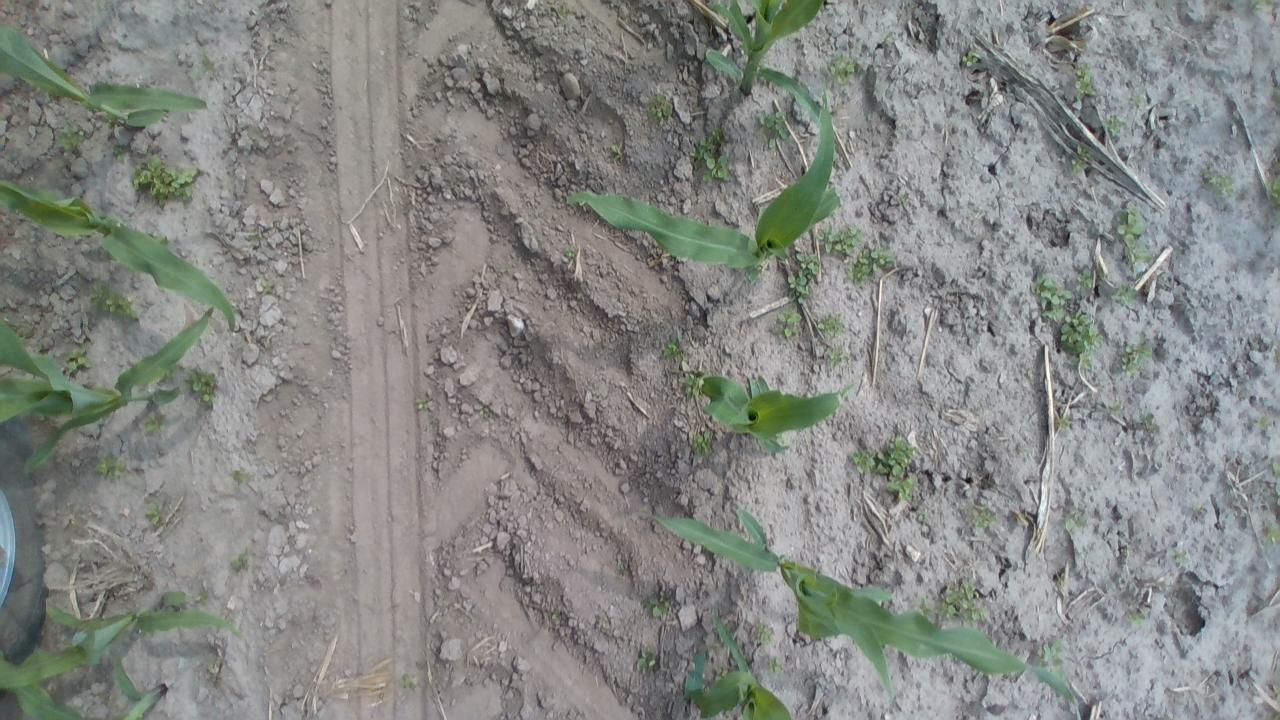Maize: (642, 499, 1089, 714), (560, 72, 845, 290), (0, 298, 216, 476), (0, 175, 246, 330), (0, 593, 247, 715), (0, 24, 215, 136), (698, 0, 842, 152), (689, 366, 864, 452), (678, 612, 800, 720)
Weeds: (848, 436, 922, 507), (130, 156, 202, 206), (917, 580, 990, 626), (1114, 202, 1152, 274), (689, 127, 732, 186), (84, 284, 146, 324), (843, 244, 895, 284), (787, 244, 824, 300), (1058, 309, 1098, 360), (1032, 271, 1070, 320), (816, 222, 866, 259), (756, 107, 792, 152), (184, 364, 221, 407), (1116, 337, 1156, 376), (1200, 166, 1238, 202), (828, 52, 862, 88), (1034, 640, 1069, 674), (49, 124, 86, 155), (772, 308, 804, 343), (962, 501, 996, 532), (646, 91, 676, 125), (816, 309, 850, 339), (62, 342, 94, 372), (643, 591, 676, 620), (681, 368, 709, 400), (1070, 142, 1096, 176), (94, 454, 128, 480), (1110, 277, 1140, 306), (1058, 505, 1088, 534), (1072, 65, 1098, 98), (634, 644, 661, 674), (662, 336, 691, 362), (690, 430, 716, 458), (144, 502, 170, 530), (752, 622, 778, 650), (825, 344, 852, 368), (196, 56, 222, 80), (396, 668, 422, 692), (228, 466, 254, 490), (1072, 266, 1096, 292), (228, 550, 254, 574), (762, 654, 786, 677), (140, 413, 166, 434), (244, 224, 266, 248), (1136, 411, 1158, 434), (607, 140, 627, 165), (960, 48, 985, 68), (1104, 114, 1126, 136), (1052, 412, 1074, 434), (562, 240, 582, 264), (1126, 606, 1146, 629), (1254, 412, 1274, 434), (1170, 548, 1192, 568), (257, 276, 278, 296), (1261, 522, 1277, 548), (1248, 0, 1272, 17), (1263, 176, 1276, 207), (413, 394, 432, 413), (911, 505, 930, 523), (1190, 501, 1208, 518), (1128, 89, 1146, 106), (474, 404, 493, 419), (1105, 400, 1124, 414), (713, 663, 728, 680)
